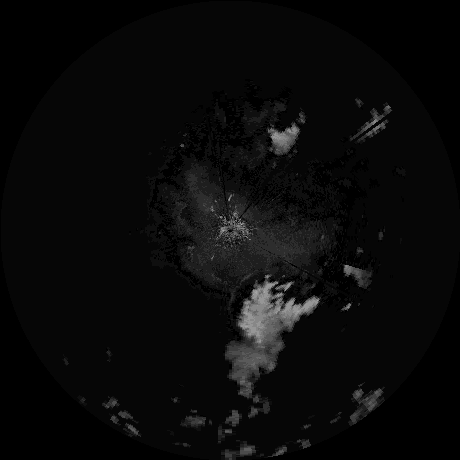frontgust: (227, 270, 257, 315)
